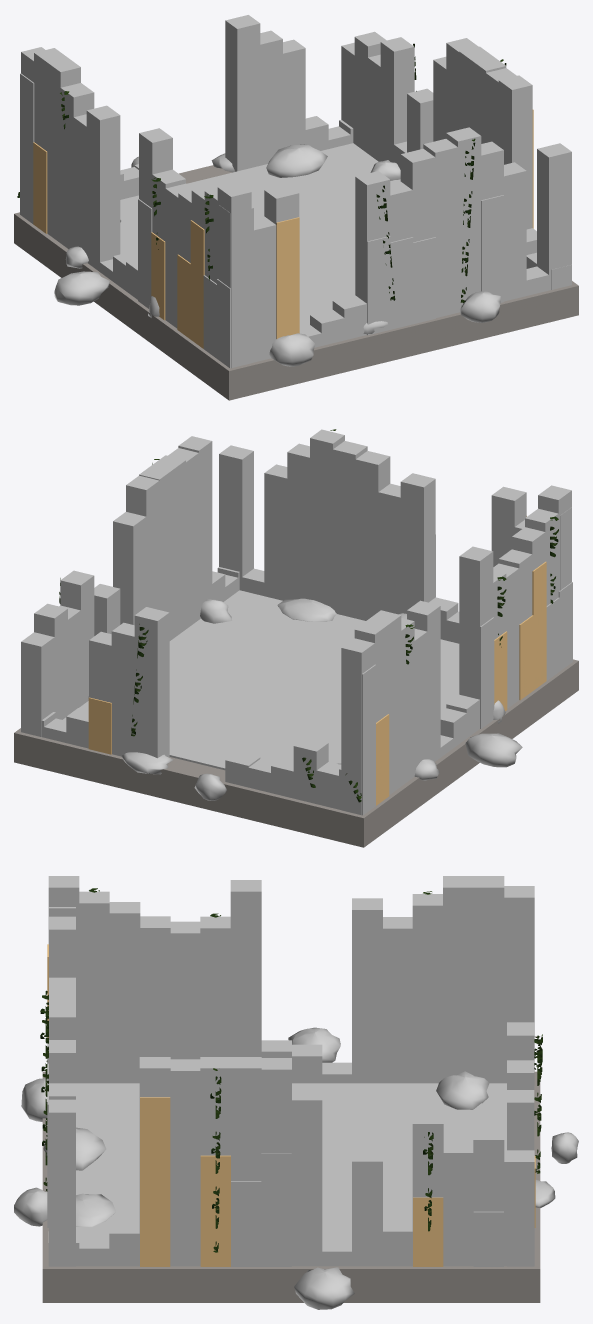
The model's file is SM_Art_Settlement_Ruin_1.gltf.
3 renders of one model, top to bottom at view 1: azimuth 30°, elevation 25°; view 2: azimuth 150°, elevation 25°; view 3: azimuth 270°, elevation 25°, orthographic. The views are drawn at different scales.
Visible parts, largest first — view 1: SM_Art_Settlement_Ruin_1; view 2: SM_Art_Settlement_Ruin_1; view 3: SM_Art_Settlement_Ruin_1.
Boxes of the visible parts, box(x1,y1,x2,y2) form: SM_Art_Settlement_Ruin_1: box(14, 15, 578, 400); SM_Art_Settlement_Ruin_1: box(14, 429, 578, 847); SM_Art_Settlement_Ruin_1: box(14, 876, 578, 1309).
Bounding box in the file's own units: 10.47 × 4.22 × 9.31.
